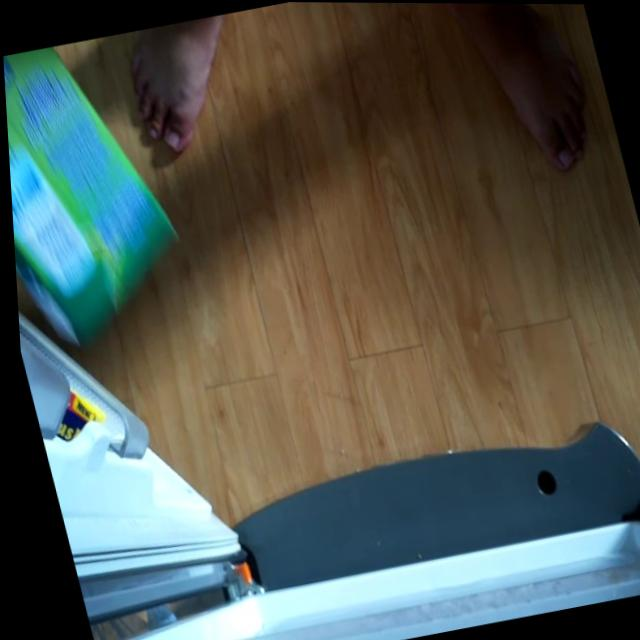milk: (2, 34, 207, 366)
